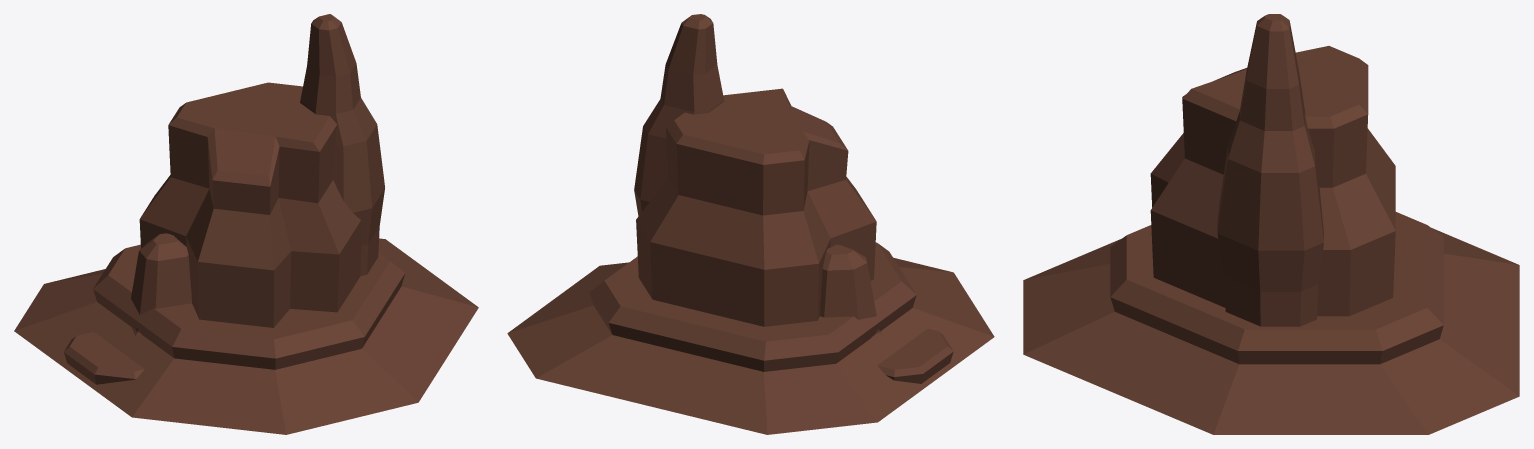
File: Rock2.fbx
The picture shows the model from 3 angles, left to right: view 1: azimuth 30°, elevation 25°; view 2: azimuth 150°, elevation 25°; view 3: azimuth 270°, elevation 25°; orthographic projection. The views are drawn at different scales.
Parts seen in each view (by area): view 1: Rock2; view 2: Rock2; view 3: Rock2.
Boxes of the visible parts, bbox=[...] form: Rock2: bbox=[14, 14, 478, 434]; Rock2: bbox=[507, 14, 994, 434]; Rock2: bbox=[1023, 14, 1519, 434].
Bounding box in the file's own units: 4698 × 3657 × 4698.
